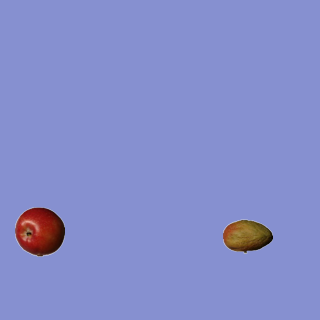Apple Braeburn: (14, 206, 64, 256)
Papaya: (222, 211, 272, 261)
